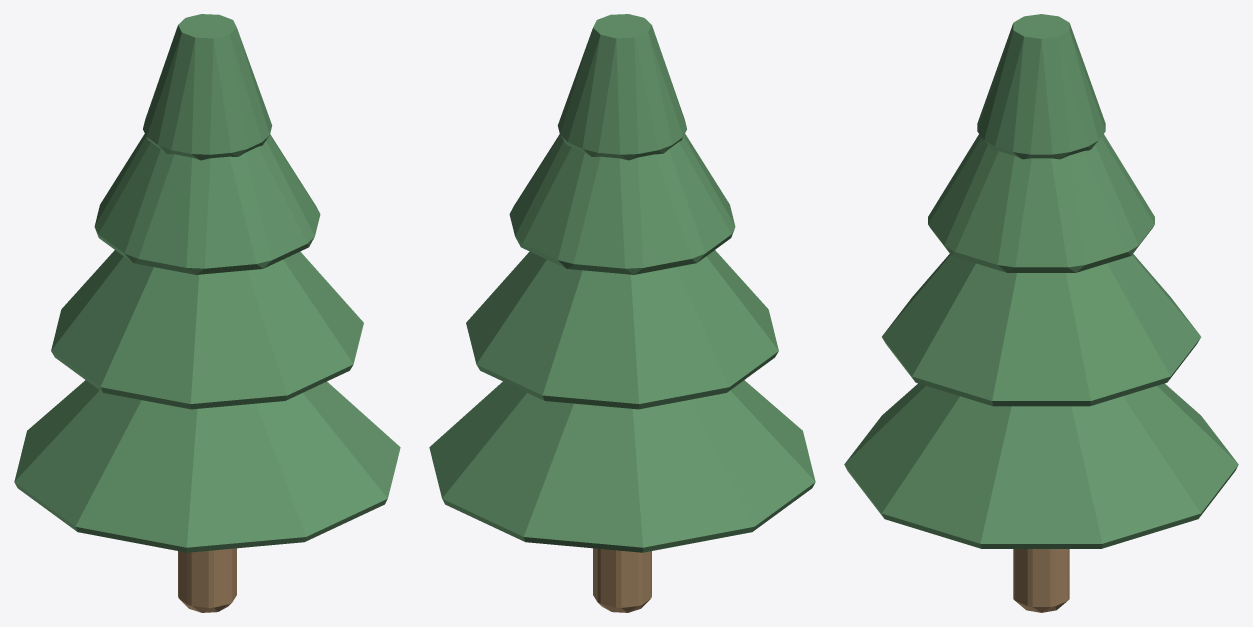
Rendered from pine.glb.
3 renders of one model, left to right at view 1: azimuth 30°, elevation 25°; view 2: azimuth 150°, elevation 25°; view 3: azimuth 270°, elevation 25°, orthographic.
Parts seen in each view (by area): view 1: pine; view 2: pine; view 3: pine.
Boxes of the visible parts, x1,y1,x2,y2 form: pine: (14,14,400,612); pine: (429,14,815,612); pine: (844,14,1238,612).
Size of the model in its own units: 0.5887 by 0.9993 by 0.619.
